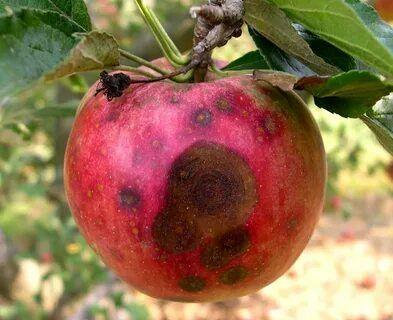Apple: (65, 64, 326, 302)
